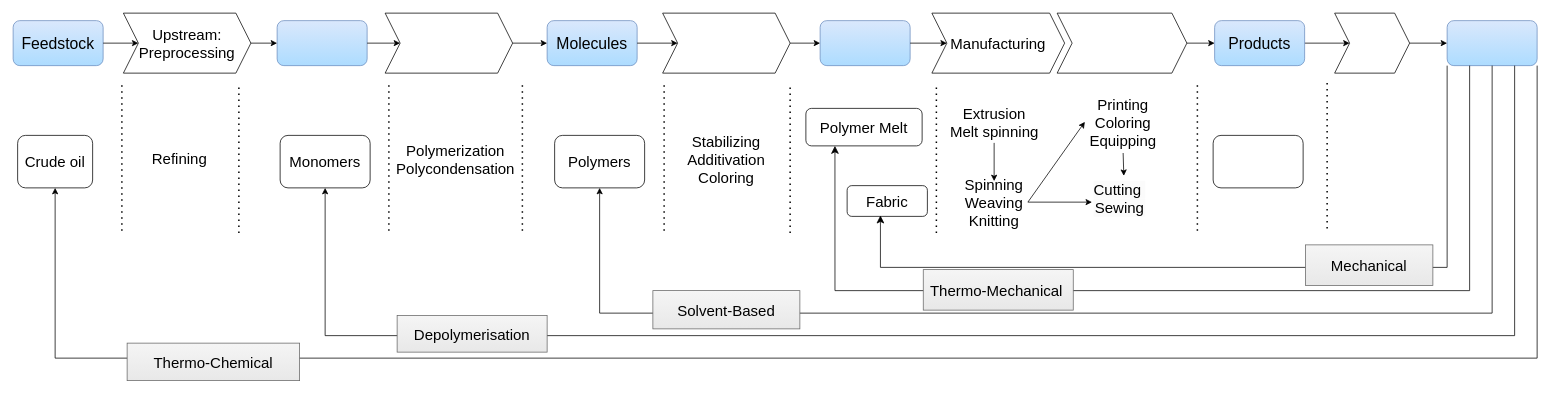
Some shapes in this 1556 by 394 pixel diagram are drawn without their labels. The shapes that lost their labels are listed below. From the top down, each one's centre as x and y in pixels, then its label:
At [321,43]: "Processed Feedstock".
At [448,42]: "Conversions".
At [726,42]: "Downstream Processing".
At [864,43]: "Materials".
At [1121,42]: "Refinement & Assembly".
At [1372,42]: "Use".
At [1491,43]: "EoL".
At [1257,161]: "Textilien".
